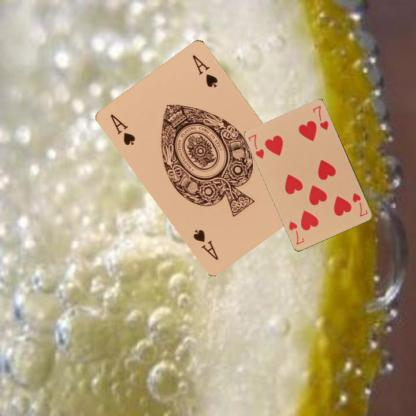7h: (245, 132, 266, 160), (350, 190, 369, 218)
As: (107, 111, 137, 147)
